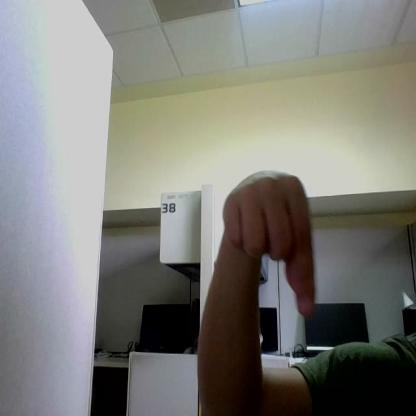Q: (224, 171, 315, 316)
